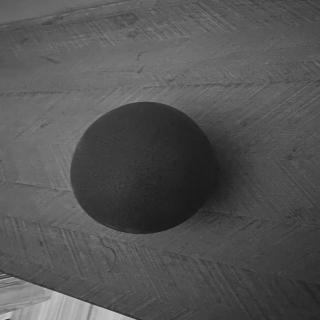Telur: (68, 99, 220, 237)
